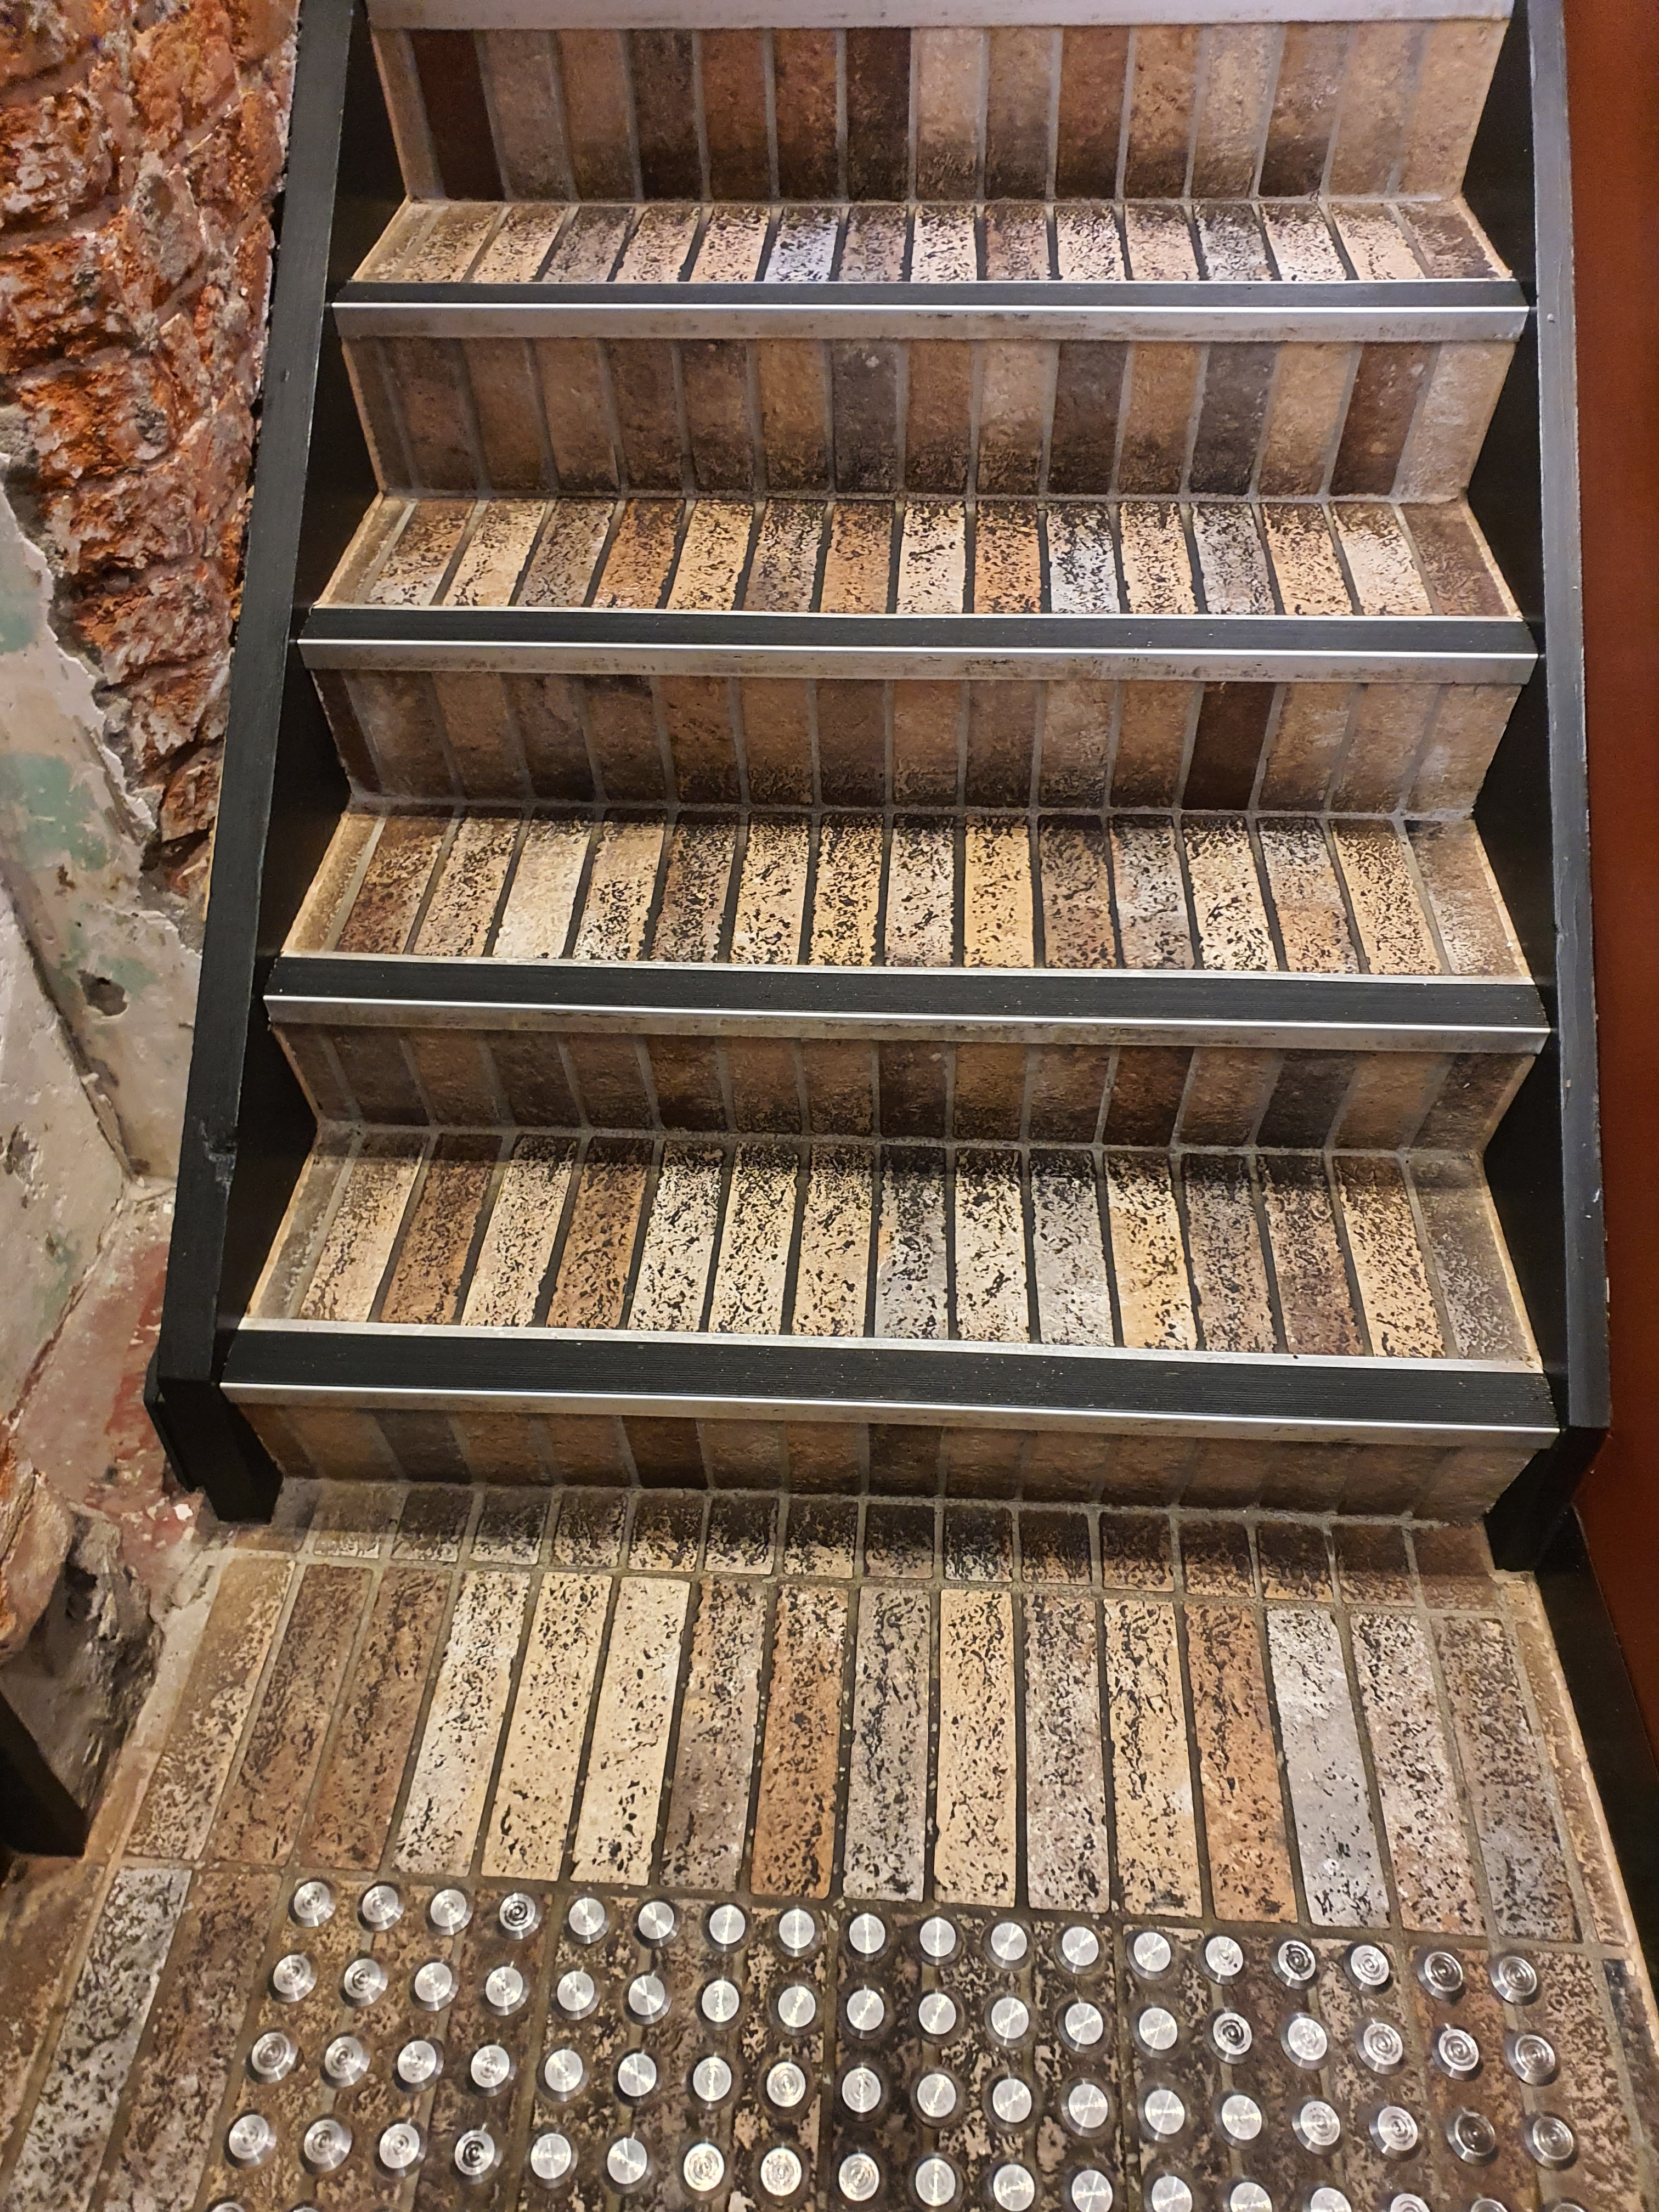upstairs: (345, 592, 1405, 1876)
